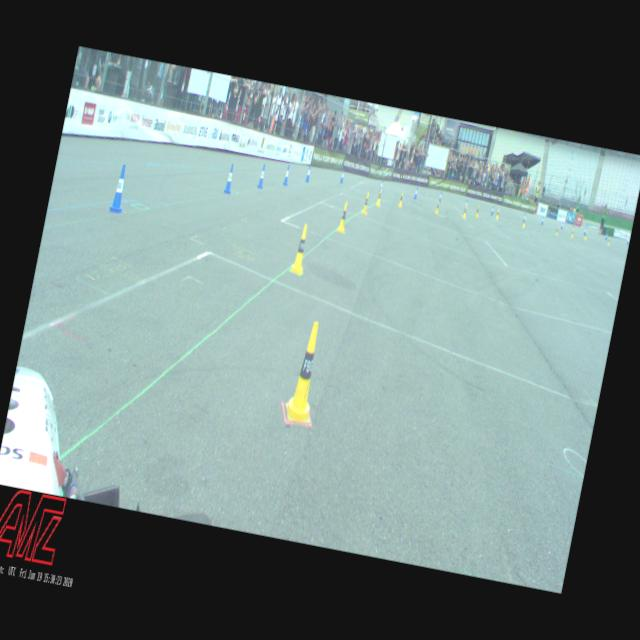blue_cone: (108, 164, 130, 213), (224, 163, 236, 194), (258, 164, 266, 188), (282, 165, 290, 185), (305, 164, 312, 182), (340, 168, 346, 184), (378, 178, 384, 192), (414, 187, 418, 199), (490, 206, 494, 216), (438, 192, 442, 202), (464, 200, 468, 210), (560, 222, 564, 230), (522, 214, 526, 222), (626, 238, 630, 245), (541, 217, 544, 225), (606, 232, 608, 240), (584, 227, 586, 235)
yellow_cone: (284, 320, 328, 424), (290, 222, 311, 274), (337, 200, 350, 232), (362, 192, 370, 214), (376, 188, 383, 206), (398, 191, 404, 207), (434, 201, 440, 214), (463, 205, 468, 218), (475, 205, 480, 218), (496, 209, 500, 220), (522, 218, 526, 228), (570, 229, 574, 238), (555, 227, 559, 236), (584, 231, 588, 240), (607, 236, 611, 245)
